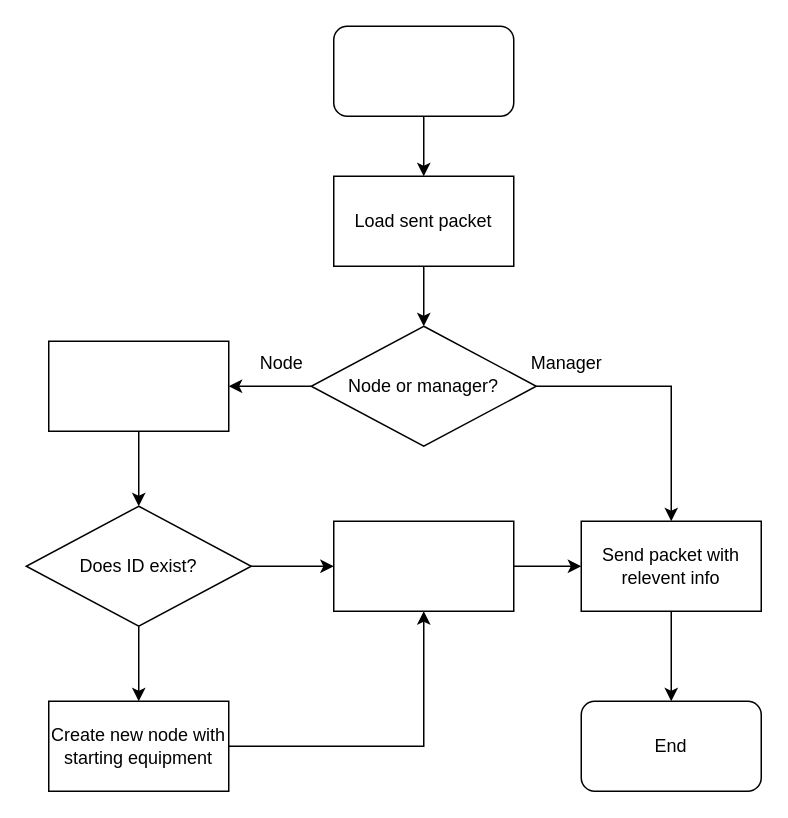
Some shapes in this 788 by 818 pixel diagram are drawn without their labels. The centre of each missing label's shape, as x and y in pixels:
"Add node to queue" goes at point (423, 565).
"Check ID in database" goes at point (138, 385).
"Start" goes at point (423, 70).
